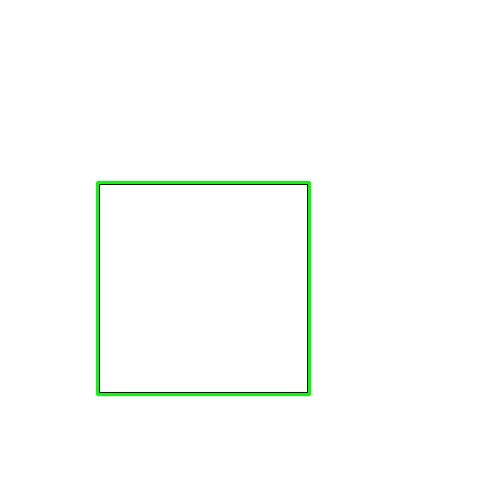line_segment: (96, 181, 311, 396)
